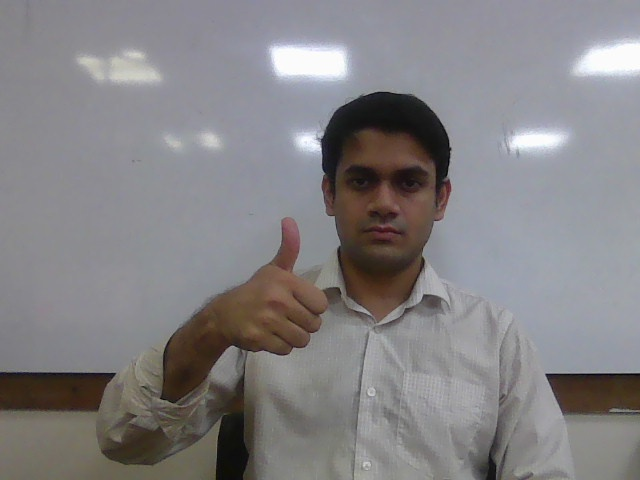Bhalo: (228, 216, 329, 358)
